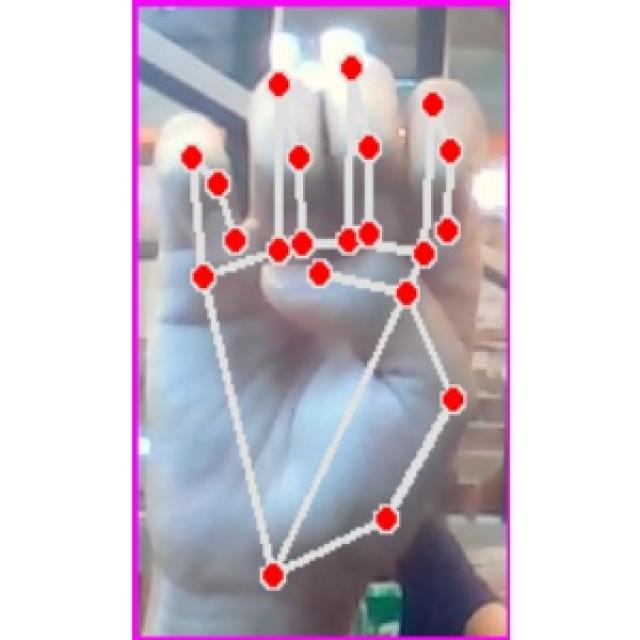E: (155, 23, 477, 600)
